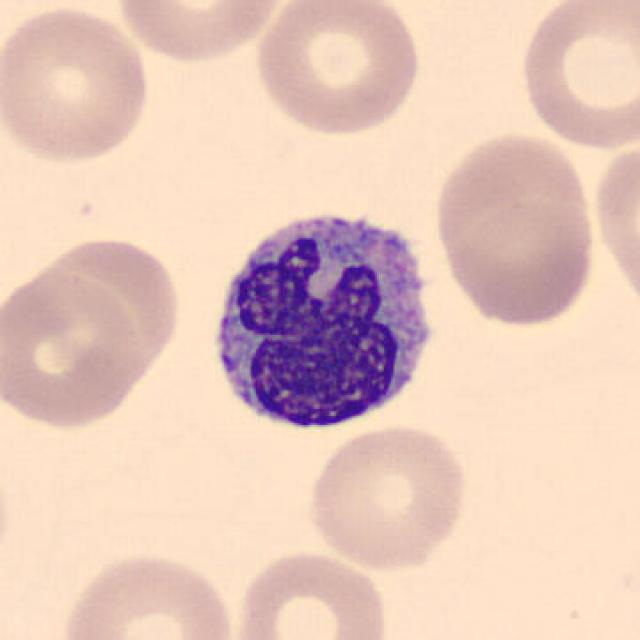Monocyte: (196, 196, 450, 444)
RBC: (428, 127, 602, 331), (302, 421, 473, 573), (0, 262, 149, 433), (1, 4, 154, 168), (249, 0, 425, 139), (25, 231, 185, 379), (513, 0, 638, 153), (55, 548, 240, 640), (227, 546, 392, 640), (110, 0, 292, 67), (588, 132, 638, 318)
